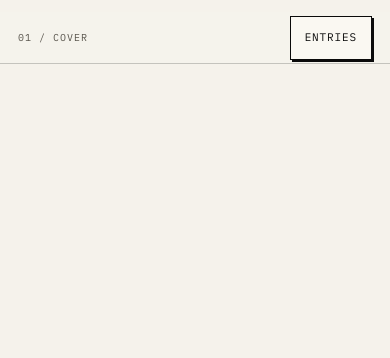
Test case: MobileStoryNav › selects an entry and closes the panel
What coordinates should you click on to do the following:
click the button "Entries"
I would click on:
 (331, 38)
Its box is [290,16,372,60].
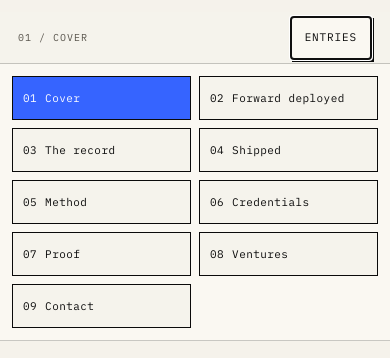
What coordinates should you click on to do the following:
click the button "03 The record"
I would click on:
 (102, 150)
Its box is [12,128,191,172].
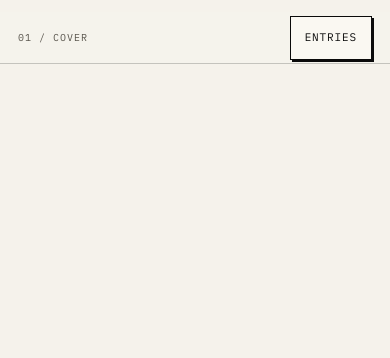
Expected: the button "The record" is gone
